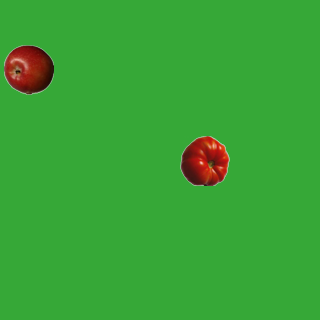Apple Braeburn: (3, 44, 53, 94)
Tomato 3: (179, 135, 229, 185)
